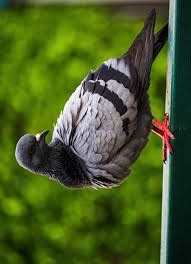pigeon: (11, 5, 179, 192)
